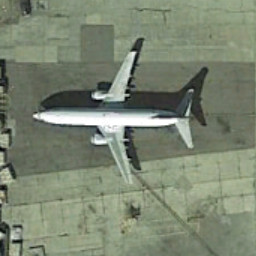Airplane: (27, 40, 202, 190)
